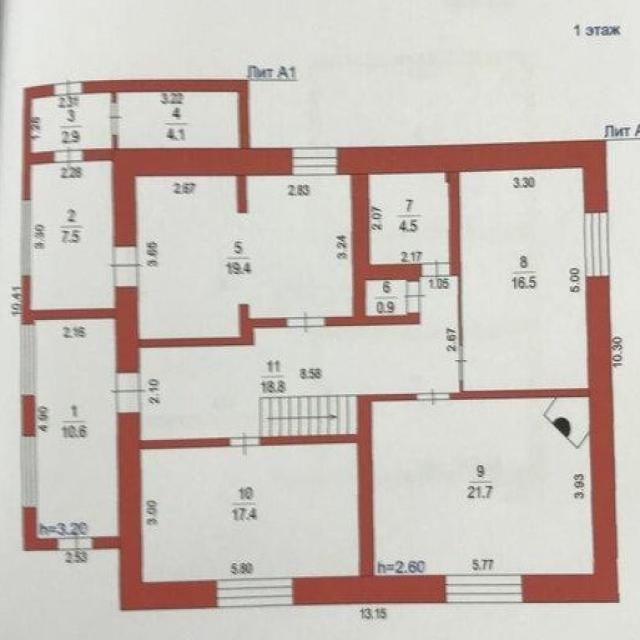Corridors: (141, 278, 457, 436), (33, 95, 109, 148), (367, 282, 405, 314)
Doors: (58, 522, 93, 565), (109, 373, 146, 412), (109, 248, 144, 286), (287, 311, 325, 334), (422, 258, 450, 284), (402, 282, 425, 312), (230, 431, 258, 453), (418, 388, 450, 406), (107, 104, 123, 135), (454, 347, 468, 379), (53, 149, 84, 163), (54, 78, 81, 94)
LBwalls: (523, 278, 621, 604), (338, 139, 608, 211), (117, 413, 215, 611), (113, 147, 292, 247), (296, 576, 444, 605), (114, 286, 139, 373)
Offices: (374, 398, 591, 573), (137, 177, 351, 339), (143, 444, 357, 581), (462, 171, 586, 388), (36, 320, 117, 537), (33, 161, 113, 308), (371, 174, 448, 263), (119, 93, 237, 147)
Stairs: (259, 395, 358, 436)
Walls: (259, 392, 418, 575), (326, 176, 421, 326), (82, 80, 250, 146), (140, 304, 287, 348), (21, 278, 114, 323), (22, 83, 54, 200), (451, 380, 588, 399), (448, 174, 463, 347), (22, 511, 58, 551), (141, 437, 229, 449), (21, 396, 36, 434), (84, 149, 112, 161), (238, 176, 246, 213), (94, 537, 117, 548), (111, 136, 119, 147)
Windows: (445, 574, 523, 603), (217, 579, 294, 607), (584, 210, 609, 278), (292, 147, 338, 176), (22, 436, 37, 509), (20, 324, 35, 395), (21, 200, 30, 277)
